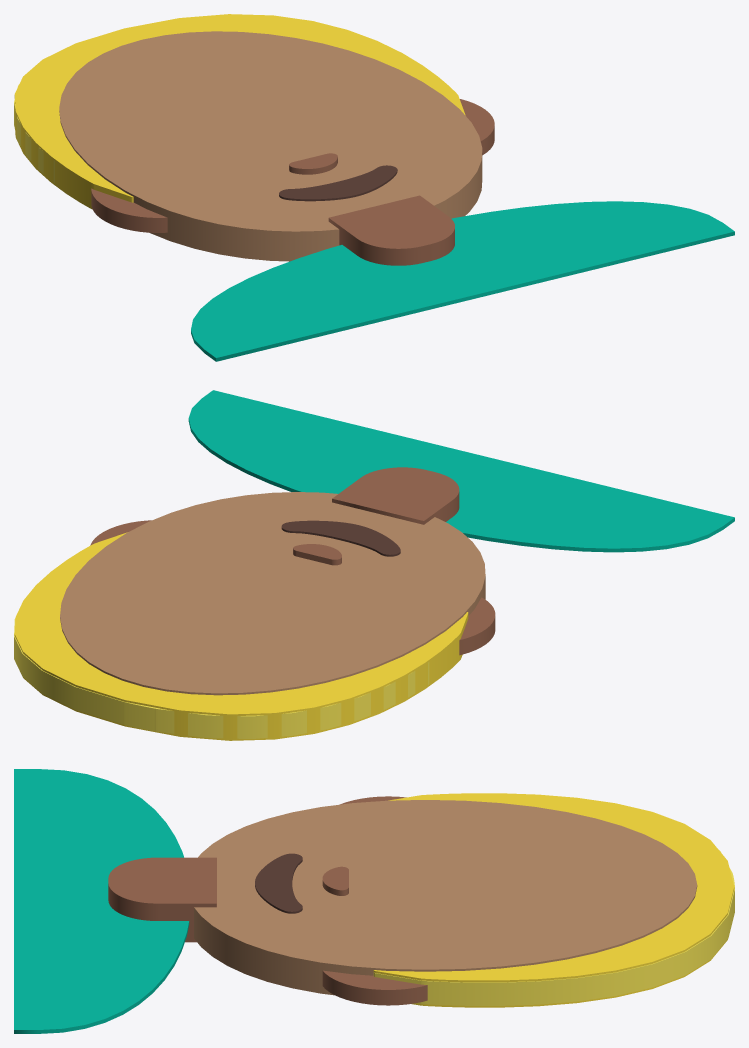
The model's file is emoji_u1f471_1f3fd_200d_2642.glb.
3 views of the same model, one above another, from view 1: azimuth 30°, elevation 25°; view 2: azimuth 150°, elevation 25°; view 3: azimuth 270°, elevation 25° (orthographic). The views are drawn at different scales.
Visible parts, largest first — view 1: emoji_u1f471_1f3fd_200d_2642; view 2: emoji_u1f471_1f3fd_200d_2642; view 3: emoji_u1f471_1f3fd_200d_2642.
Boxes of the visible parts, bbox=[...] form: emoji_u1f471_1f3fd_200d_2642: bbox=[14, 14, 734, 361]; emoji_u1f471_1f3fd_200d_2642: bbox=[14, 390, 734, 740]; emoji_u1f471_1f3fd_200d_2642: bbox=[14, 769, 734, 1033].
Size of the model in its own units: 0.0289 by 0.0022 by 0.0337.
